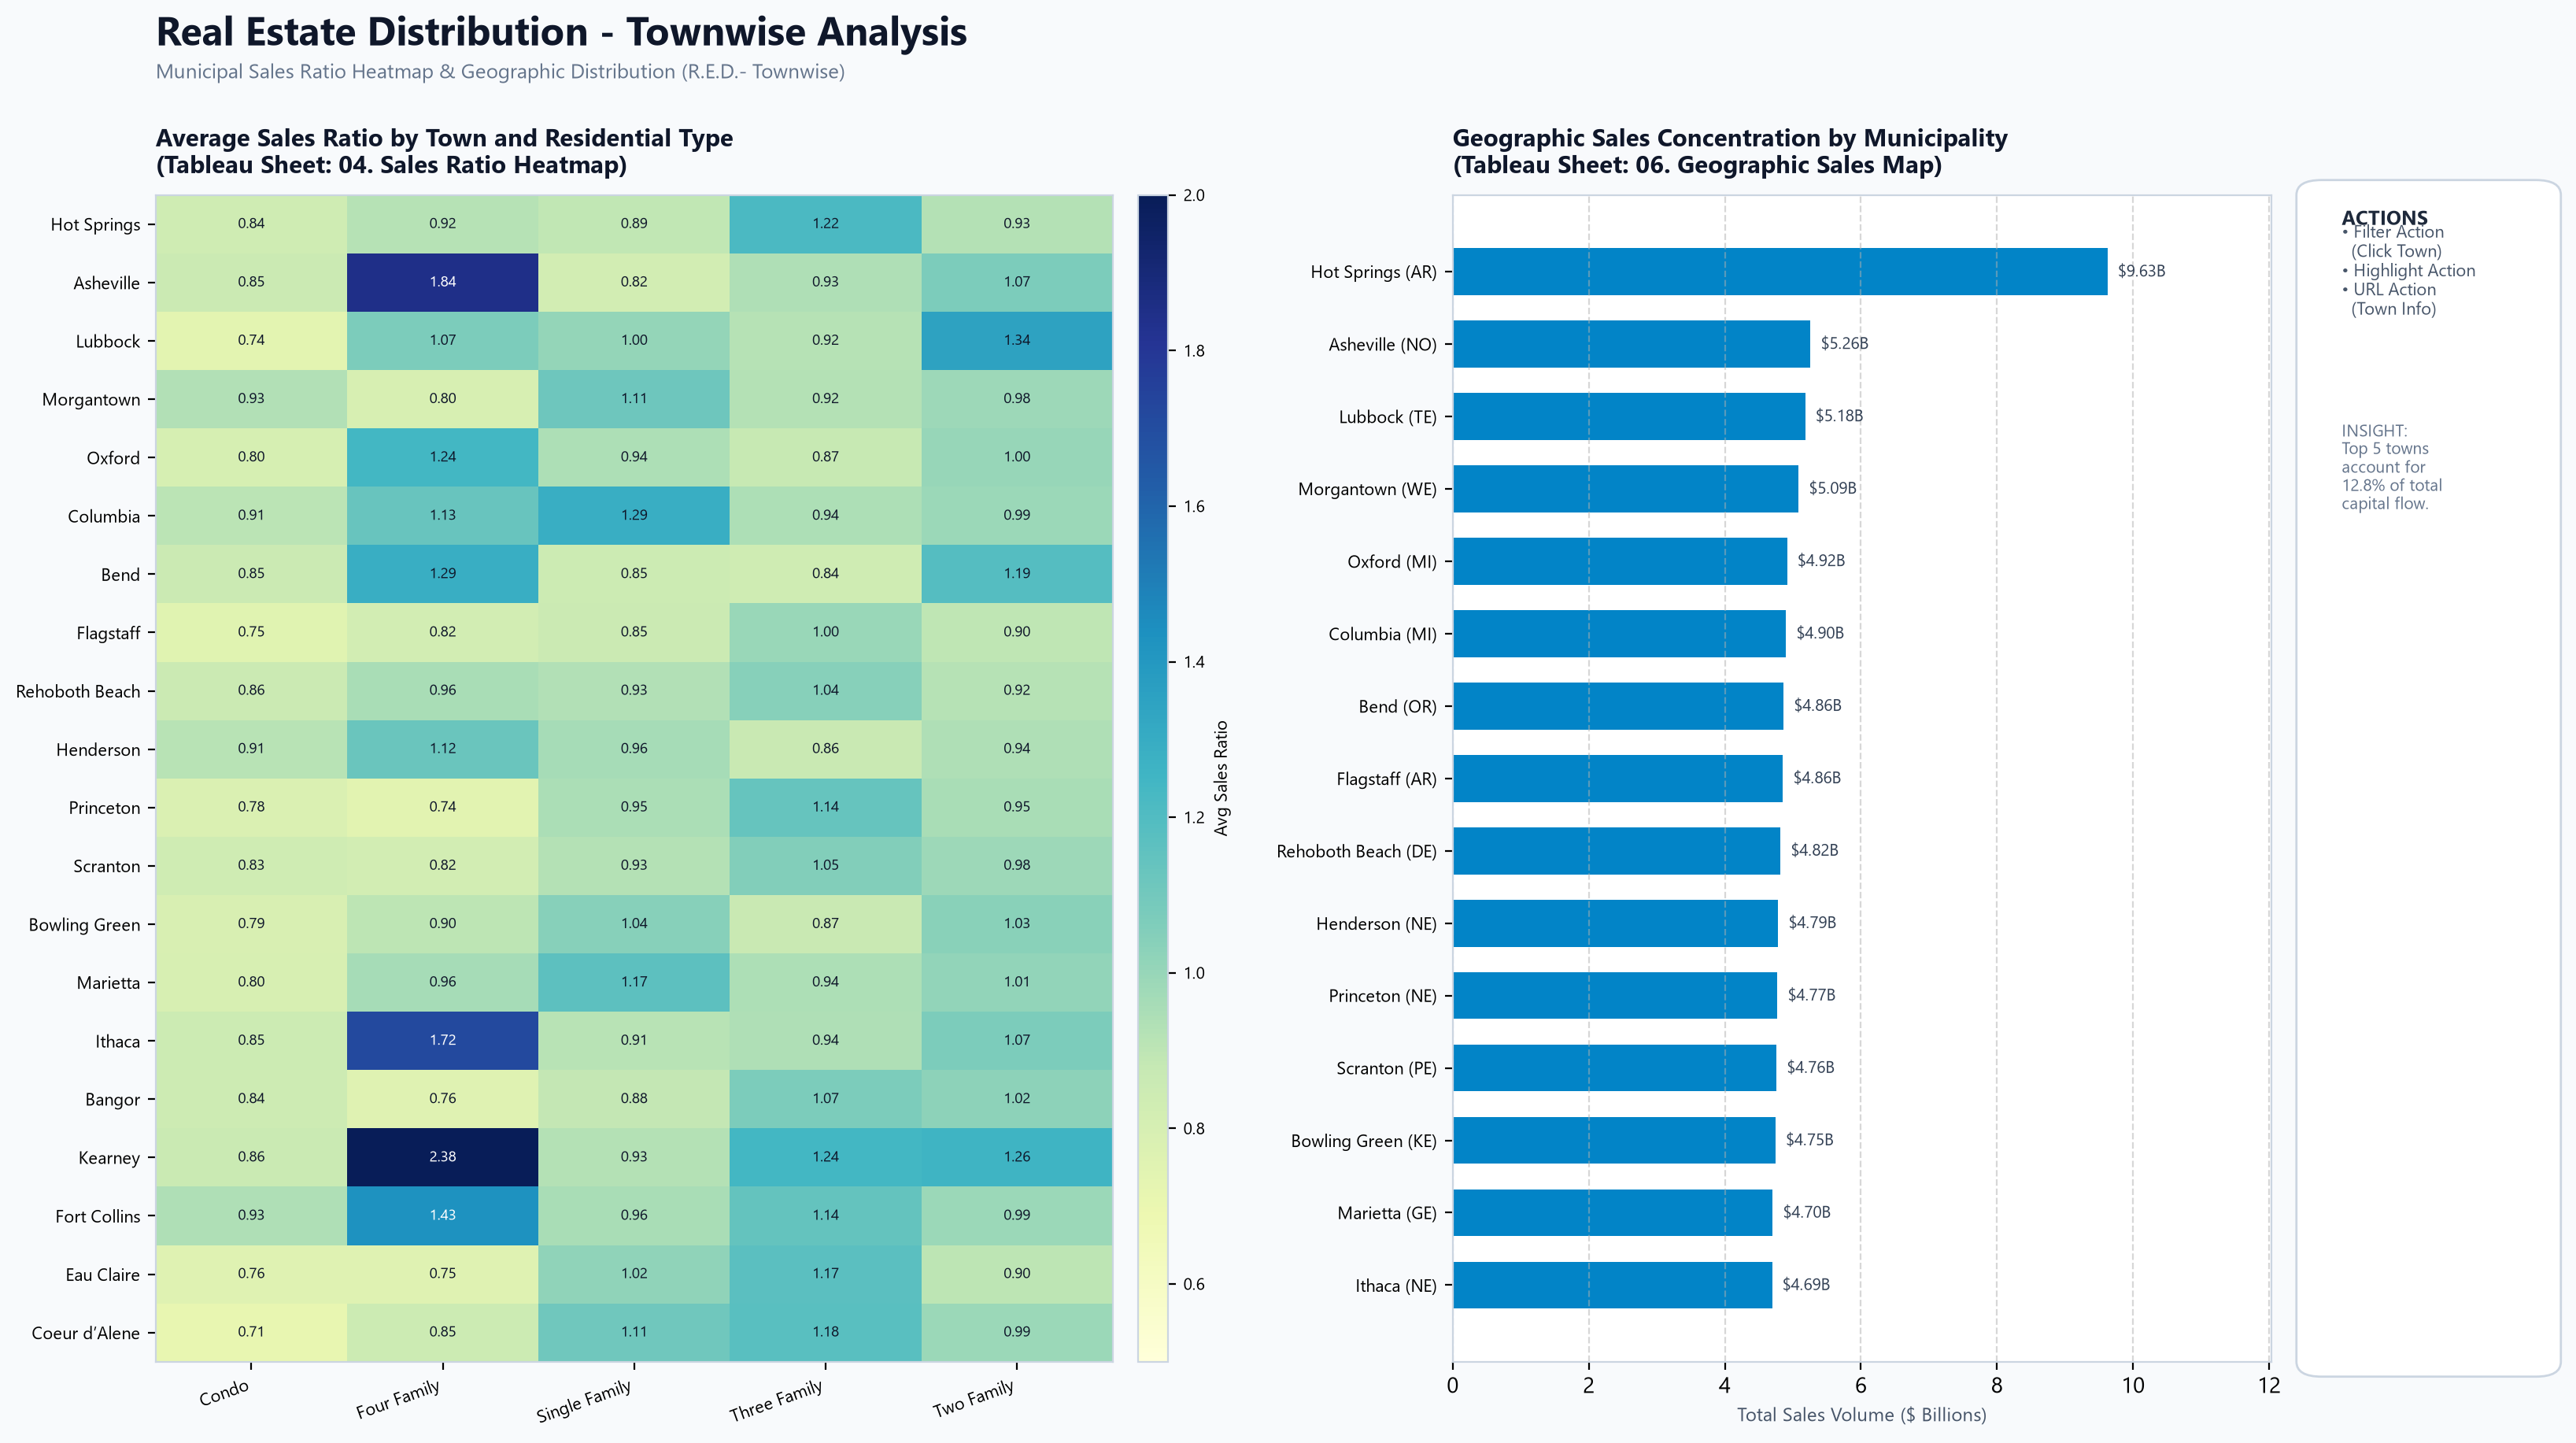

The dashboard page shown, as its layout file describes it:
{"tool":"tableau","page":{"name":"R.E.D.- Townwise","canvas":[1000,1000],"units":"permille","ordinal":0},"visuals":[{"type":"title","box":[4.8,8.8,990.3,58.2]},{"type":"worksheet","title":"04. Sales Ratio Heatmap","mark":"Square","rows":["Town"],"cols":["Residential Type"],"box":[4.8,67,446.9,924.3]},{"type":"worksheet","title":"06. Geographic Sales Map","mark":"Multipolygon","box":[451.7,67,446.9,924.3]},{"type":"legend","title":"04. Sales Ratio Heatmap","param":"[federated.1p2w3xb05bzdm717pvqak1xr3v6i].[avg:Sales Ratio:qk]","box":[898.6,67,96.6,80.1]},{"type":"legend","title":"06. Geographic Sales Map","param":"[federated.1p2w3xb05bzdm717pvqak1xr3v6i].[sum:Sale Amount:qk]","box":[898.6,147.1,96.6,80.1]},{"type":"legend","title":"06. Geographic Sales Map","param":"[federated.1p2w3xb05bzdm717pvqak1xr3v6i].[sum:Sale Amount:qk]","box":[898.6,227.2,96.6,125.1]},{"type":"legend","title":"06. Geographic Sales Map","box":[898.6,352.4,96.6,148.2]}]}

Visuals, with their boxes on the dashboard's canvas, which has no fixed pixel size, in thousandths of its width and height (x1, y1, x2, y2). These are canvas units, not pixel positions in the 2576x1443 screenshot, which may show the page scaled, cropped or inside an application window:
title: 5 9 995 67
"04. Sales Ratio Heatmap" worksheet (Square marks): 5 67 452 991
"06. Geographic Sales Map" worksheet (Multipolygon marks): 452 67 899 991
"04. Sales Ratio Heatmap" legend: 899 67 995 147
"06. Geographic Sales Map" legend: 899 147 995 227
"06. Geographic Sales Map" legend: 899 227 995 352
"06. Geographic Sales Map" legend: 899 352 995 501
